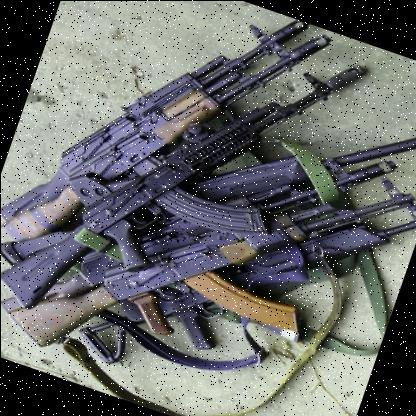rifle: (0, 0, 365, 384), (12, 87, 416, 416), (0, 0, 309, 292)
